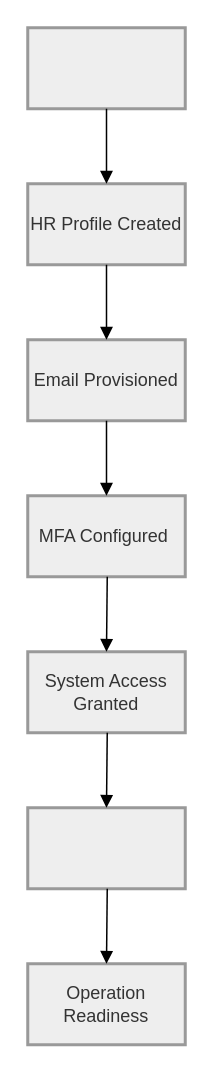
The diagram is 212 pixels wide and 1071 high, and some of its shapes have lost their labels. Here are the shapes that lost their labels. From the top down, the box of each, then its label:
(26, 26, 186, 110): Employee Hired
(26, 806, 186, 890): Training Completed
